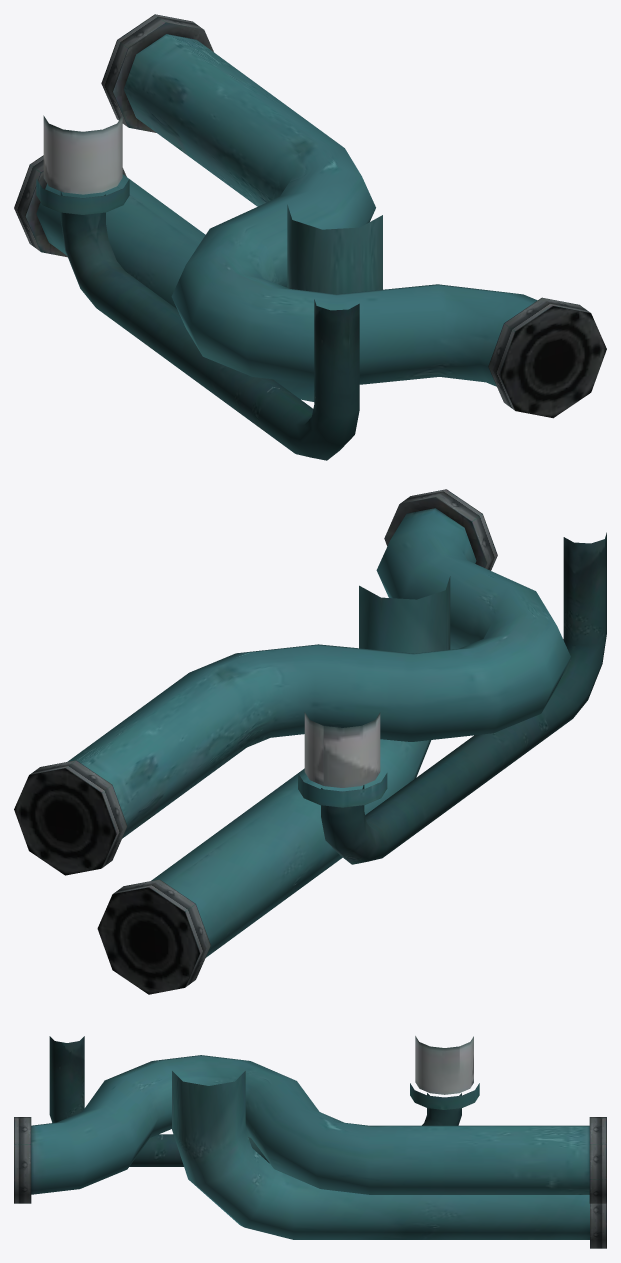
The picture shows the model from 3 angles, top to bottom: view 1: azimuth 30°, elevation 25°; view 2: azimuth 150°, elevation 25°; view 3: azimuth 270°, elevation 25°; orthographic projection. The views are drawn at different scales.
Visible parts, largest first — view 1: body0_model0_lod0_mesh0; view 2: body0_model0_lod0_mesh0; view 3: body0_model0_lod0_mesh0.
Part boxes in pixels (x1,y1,x2,y2): body0_model0_lod0_mesh0: (14,14,606,460); body0_model0_lod0_mesh0: (14,489,606,994); body0_model0_lod0_mesh0: (14,1036,606,1248).
Bounding box in the file's own units: 27.02 × 21.16 × 64.09.
Materials: 1 (1 with a texture image).
